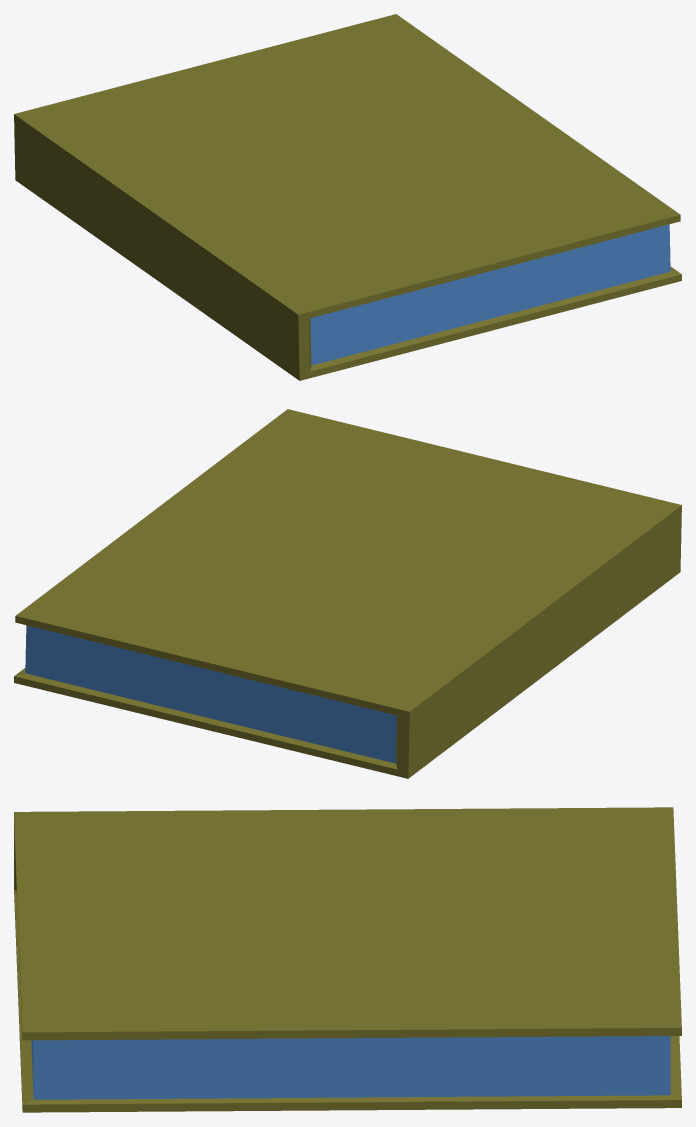
File: Childrens_Room_Book_3.fbx
3 renders of one model, top to bottom at view 1: azimuth 30°, elevation 25°; view 2: azimuth 150°, elevation 25°; view 3: azimuth 270°, elevation 25°, orthographic. The views are drawn at different scales.
Visible parts, largest first — view 1: Childrens_Room_Book_3; view 2: Childrens_Room_Book_3; view 3: Childrens_Room_Book_3.
Boxes of the visible parts, box(x1,y1,x2,y2) form: Childrens_Room_Book_3: box(14, 14, 681, 380); Childrens_Room_Book_3: box(14, 409, 681, 778); Childrens_Room_Book_3: box(14, 807, 681, 1112).
Size of the model in its own units: 27.43 by 4.64 by 33.7.
